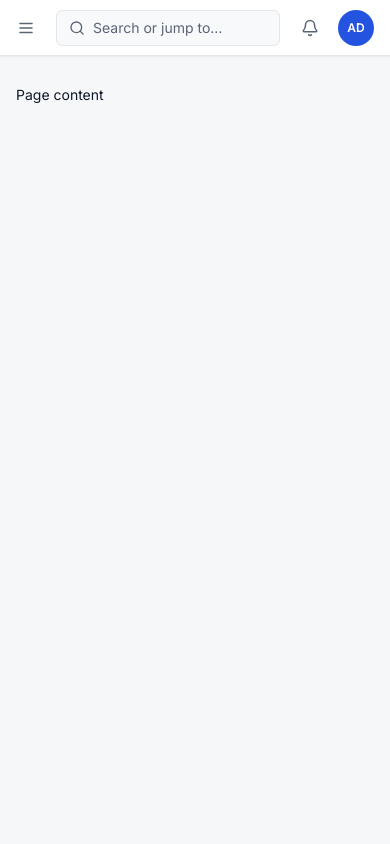
Test case: AppShell — mobile drawer › closes via the close button
Click the button named "Open navigation menu". click: (26, 28)
box: [8,10,44,46]
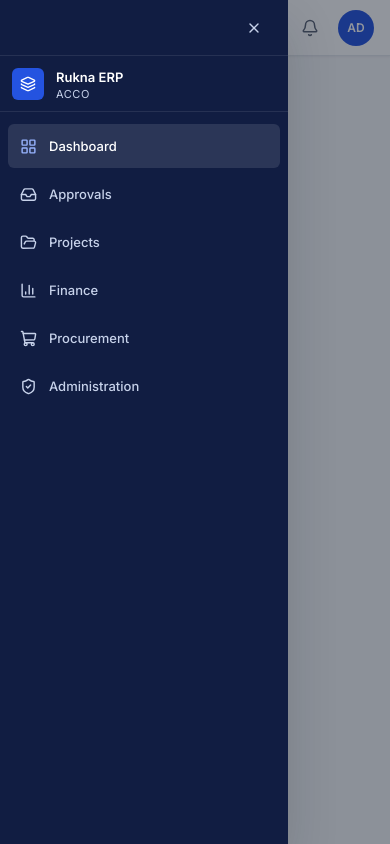
Click the button named "Close navigation menu". click: (254, 28)
box: [232,6,276,50]
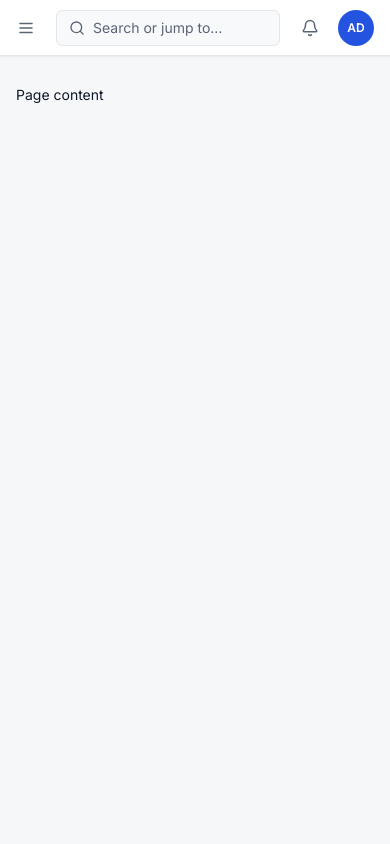
Now the dialog is gone
